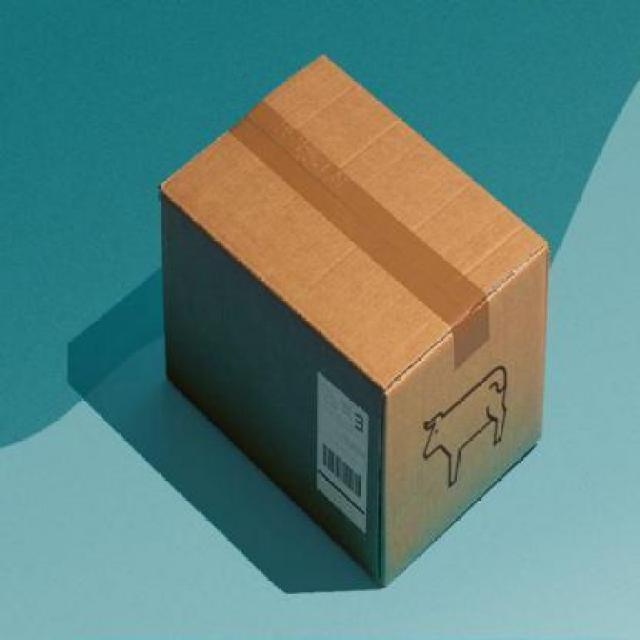box: (159, 51, 551, 588)
